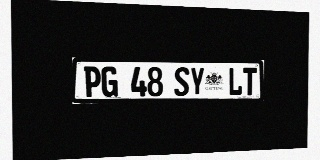4: (131, 67, 147, 97)
8: (147, 67, 163, 96)
G: (101, 66, 118, 97)
L: (228, 67, 243, 96)
P: (84, 66, 101, 97)
S: (174, 67, 189, 96)
T: (243, 68, 257, 95)
Y: (190, 67, 205, 96)
